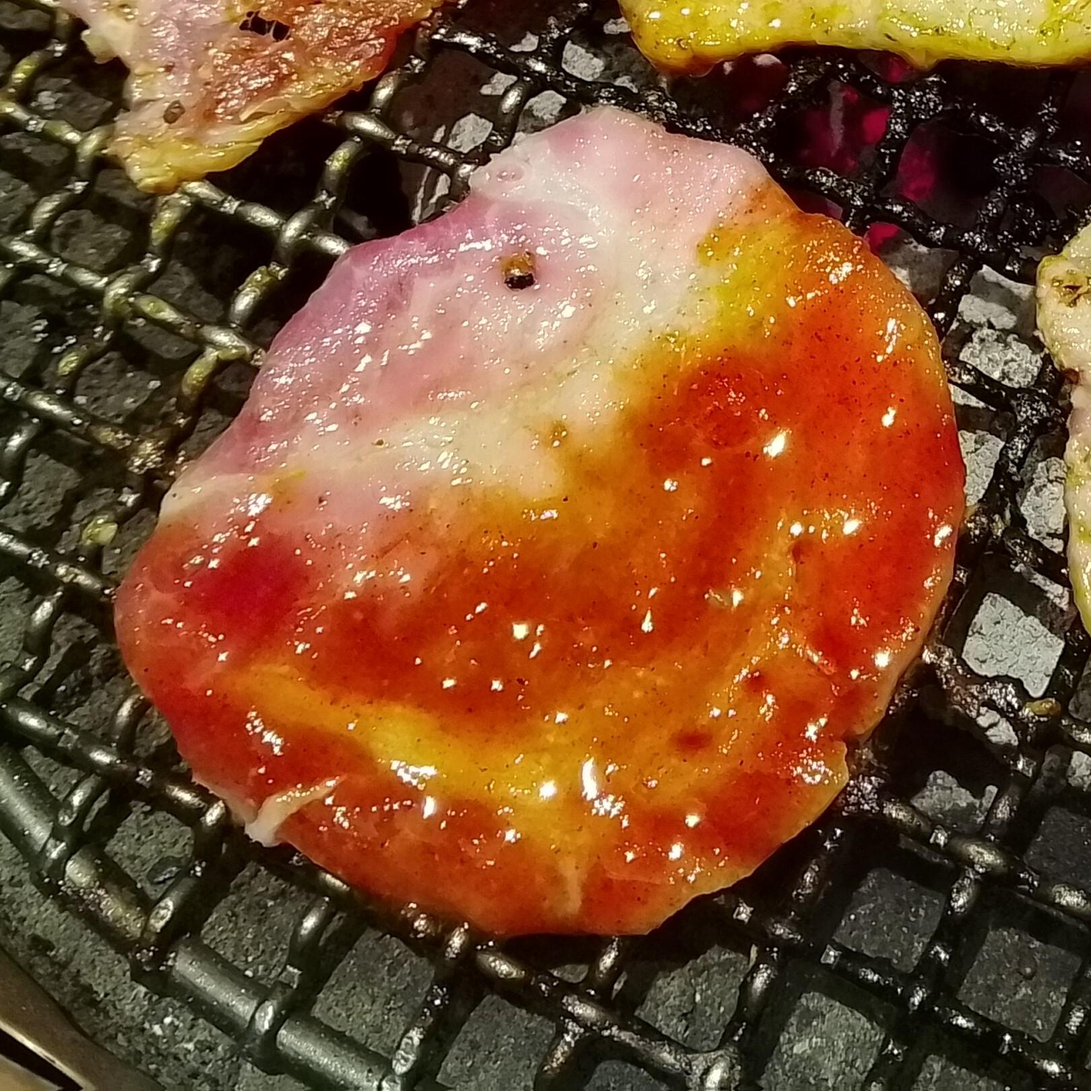Undercooked: (115, 108, 964, 936)
